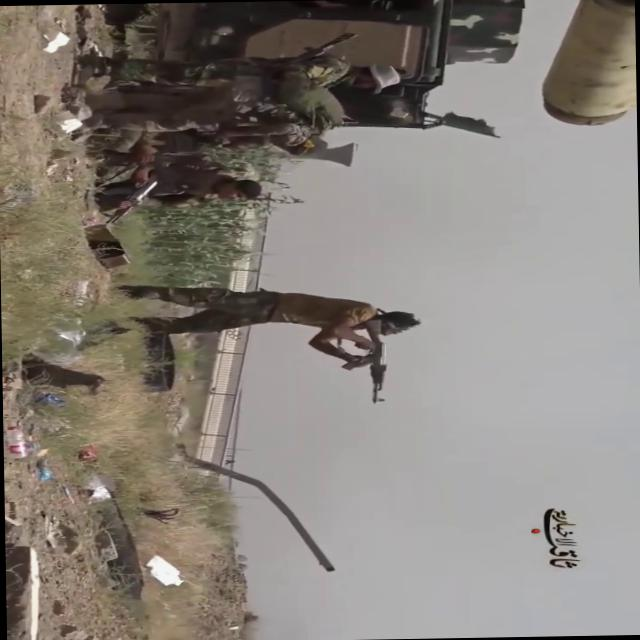long weapon: (330, 312, 395, 414), (94, 168, 171, 231)
